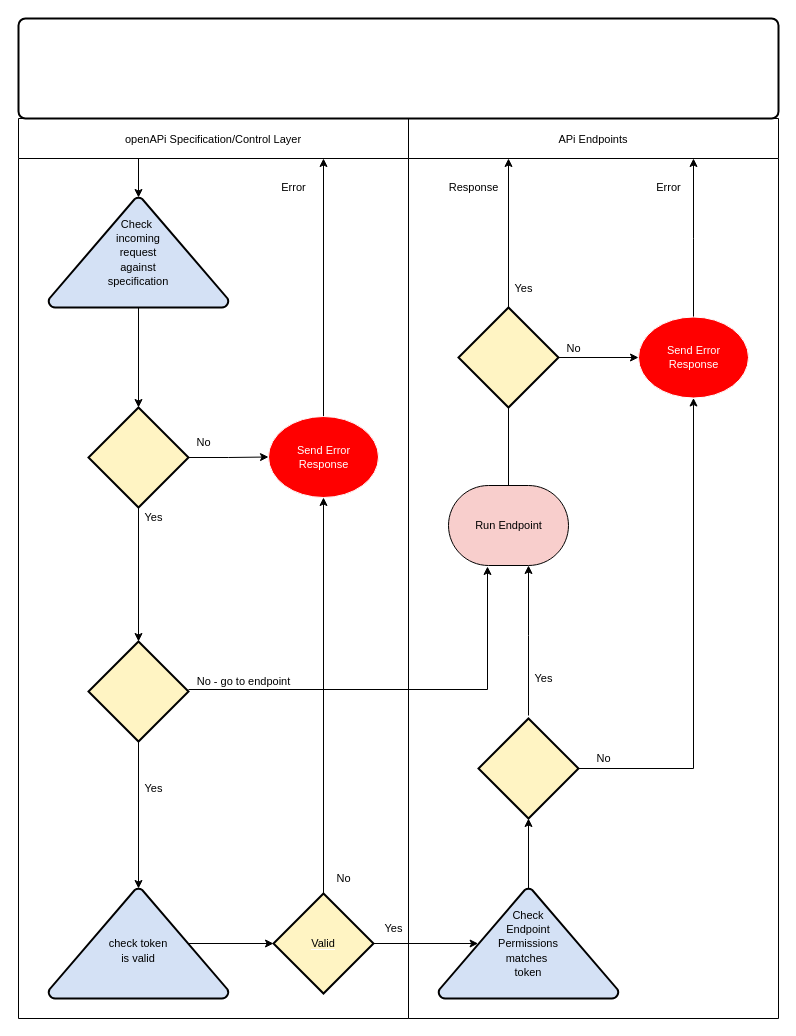
Image size: 796x1036. Some labels were removed from this diagram. Each missing label, with the centre of its shape:
API LAYER Incoming - Requests Outgoing Responses: (x=398, y=68)
Endpoint Runs OK: (x=508, y=357)
Match: (x=528, y=768)
OK: (x=138, y=457)
Security Applied: (x=138, y=691)
